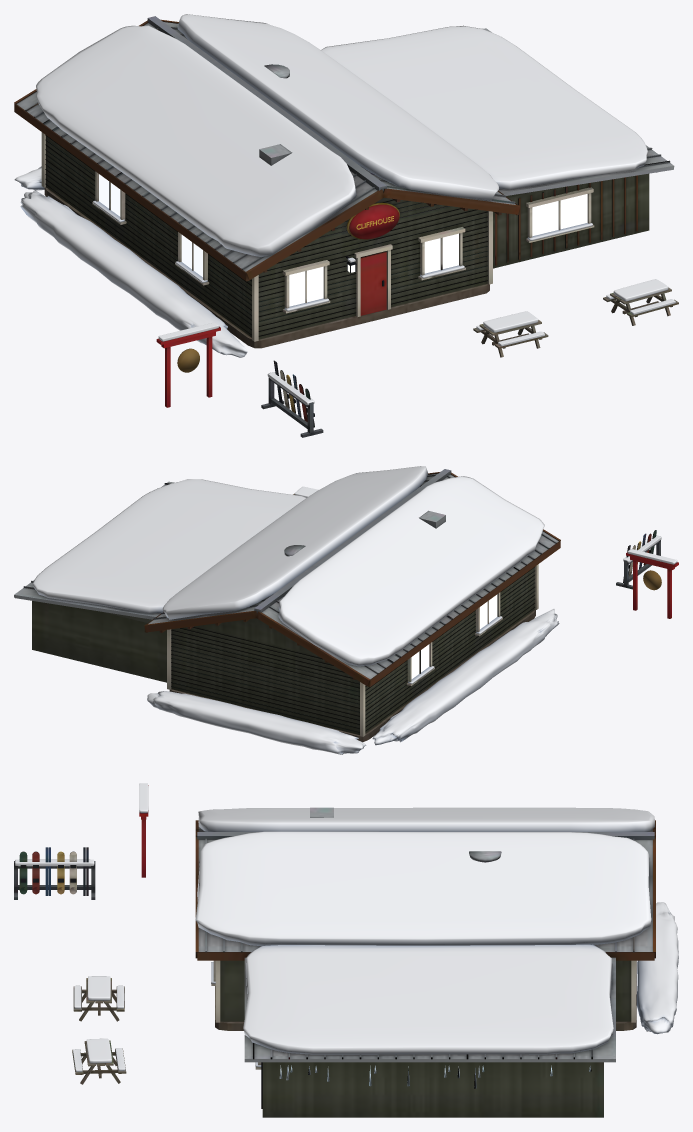
The model's file is cliffhouse.glb.
3 renders of one model, top to bottom at view 1: azimuth 30°, elevation 25°; view 2: azimuth 150°, elevation 25°; view 3: azimuth 270°, elevation 25°, orthographic. The views are drawn at different scales.
Visible parts, largest first — view 1: cliffhouse_snow, cliffhouse, cliffhouse_lit; view 2: cliffhouse_snow, cliffhouse, cliffhouse_lit; view 3: cliffhouse_snow, cliffhouse.
Boxes of the visible parts, box(x1,y1,x2,y2) form: cliffhouse_snow: box(14, 14, 675, 405); cliffhouse: box(14, 16, 678, 437); cliffhouse_lit: box(99, 174, 587, 306); cliffhouse_snow: box(32, 466, 677, 754); cliffhouse: box(14, 469, 678, 742); cliffhouse_lit: box(411, 594, 497, 678); cliffhouse_snow: box(15, 783, 678, 1071); cliffhouse: box(14, 785, 655, 1117).
Size of the model in its own units: 21.82 by 5.74 by 22.39.
5 materials, 1 textured.
